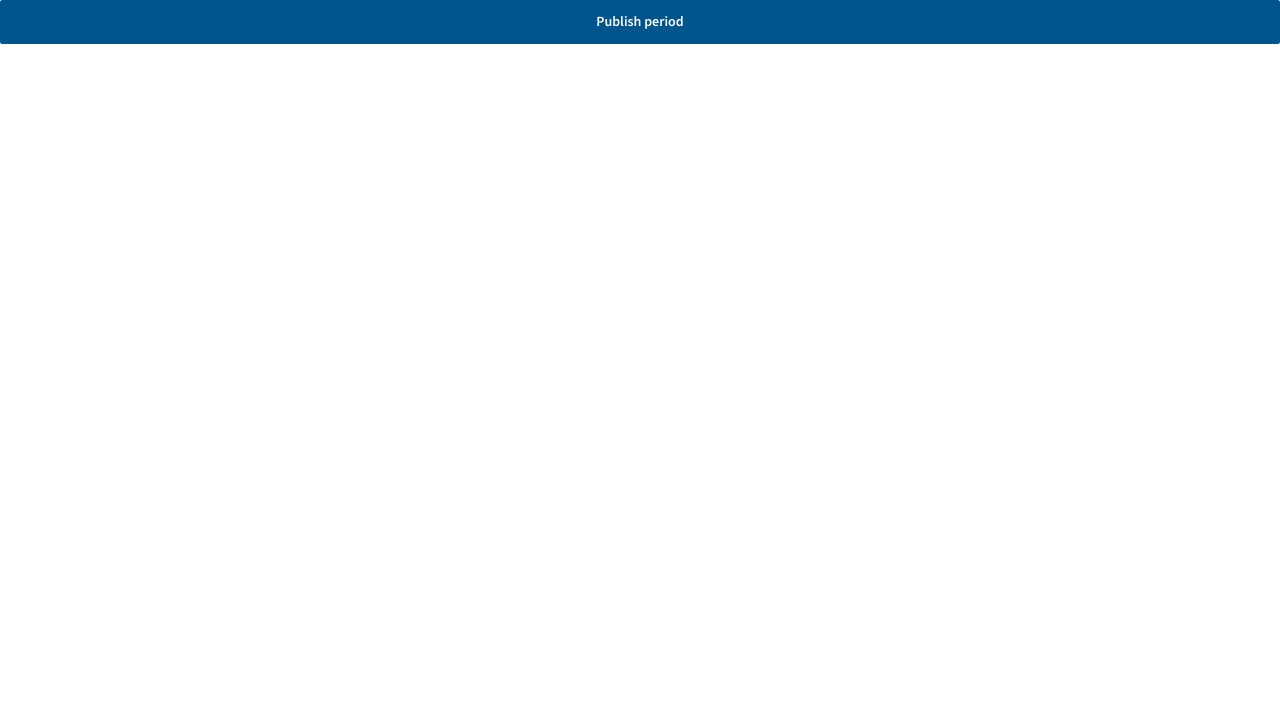
the publish period action › says the period is already published when the api answers 409
The image size is (1280, 720).
Click the button "Publish period" at (640,22), box [0,0,1279,44]
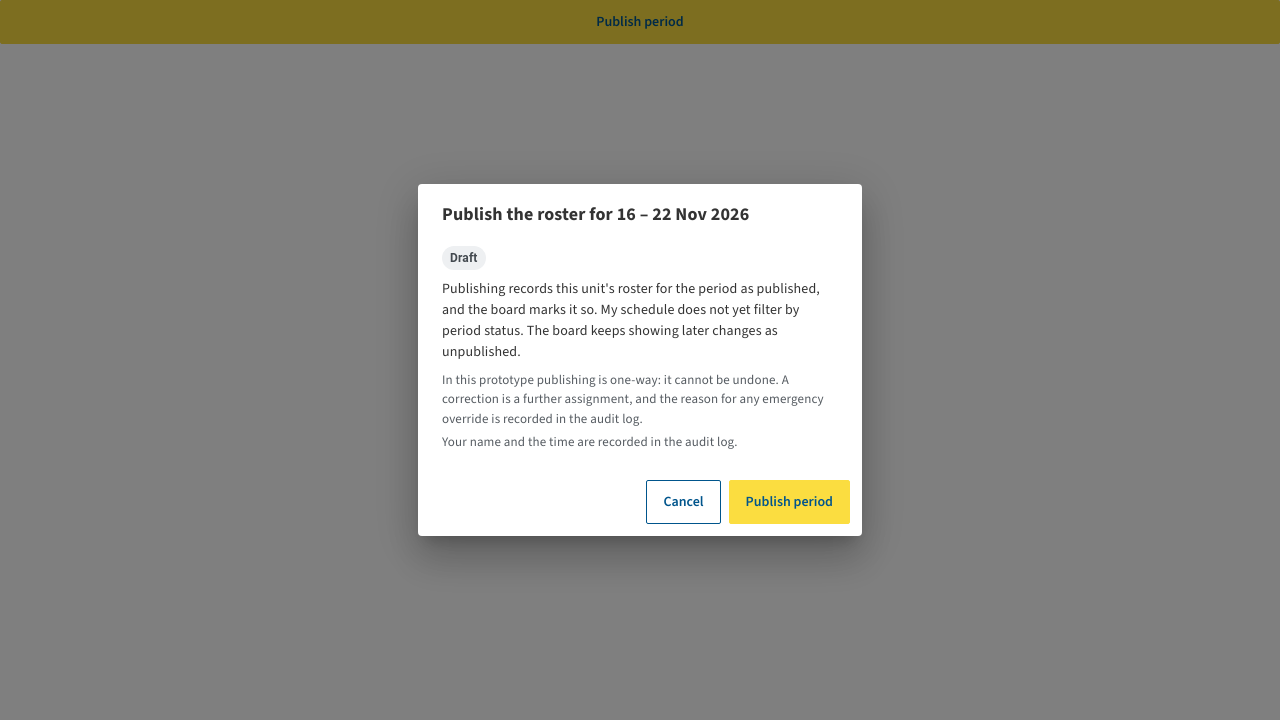
Click the button "Publish period" at (789,502), box [729,480,850,524]
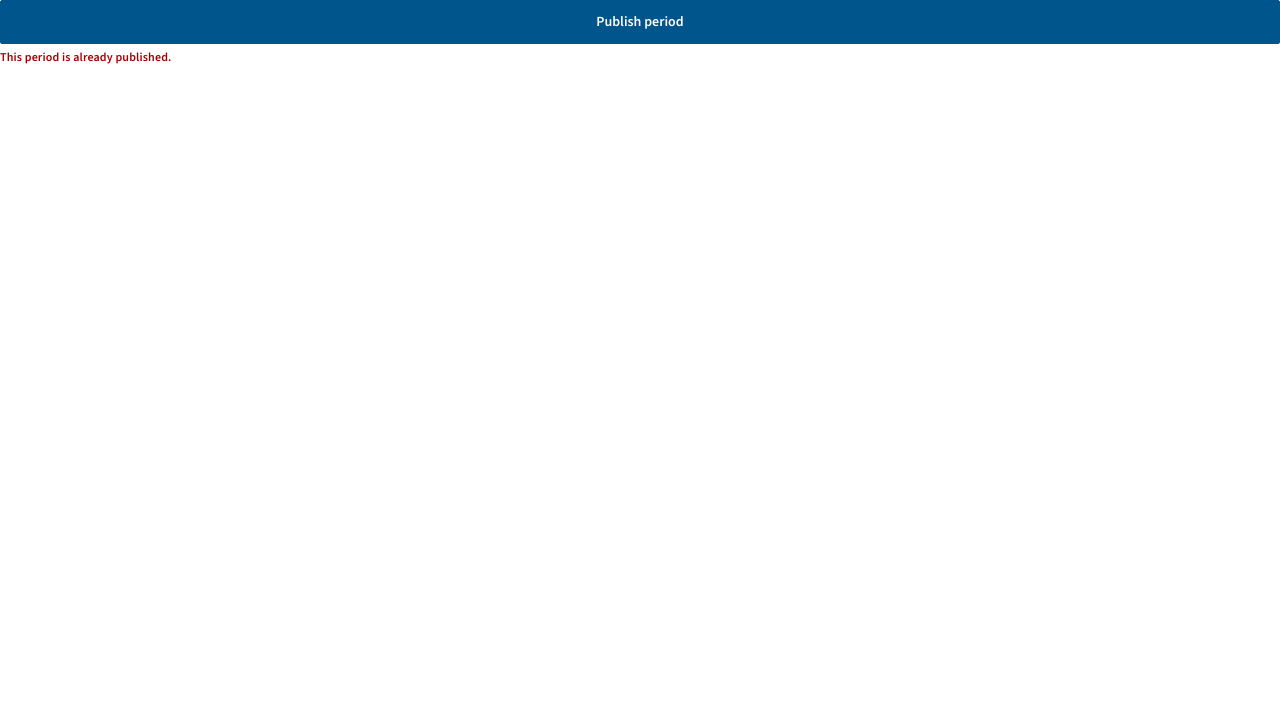
Result: the text "This period is already published." is shown at [0,49,172,65]
